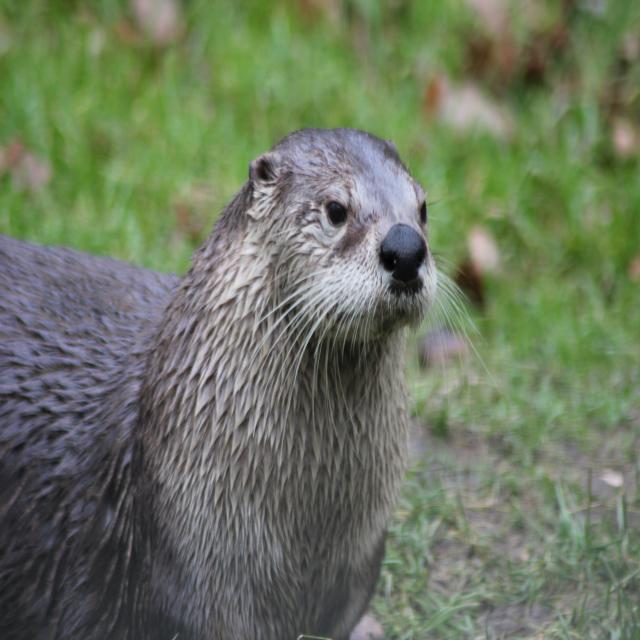otter: (133, 128, 439, 640)
